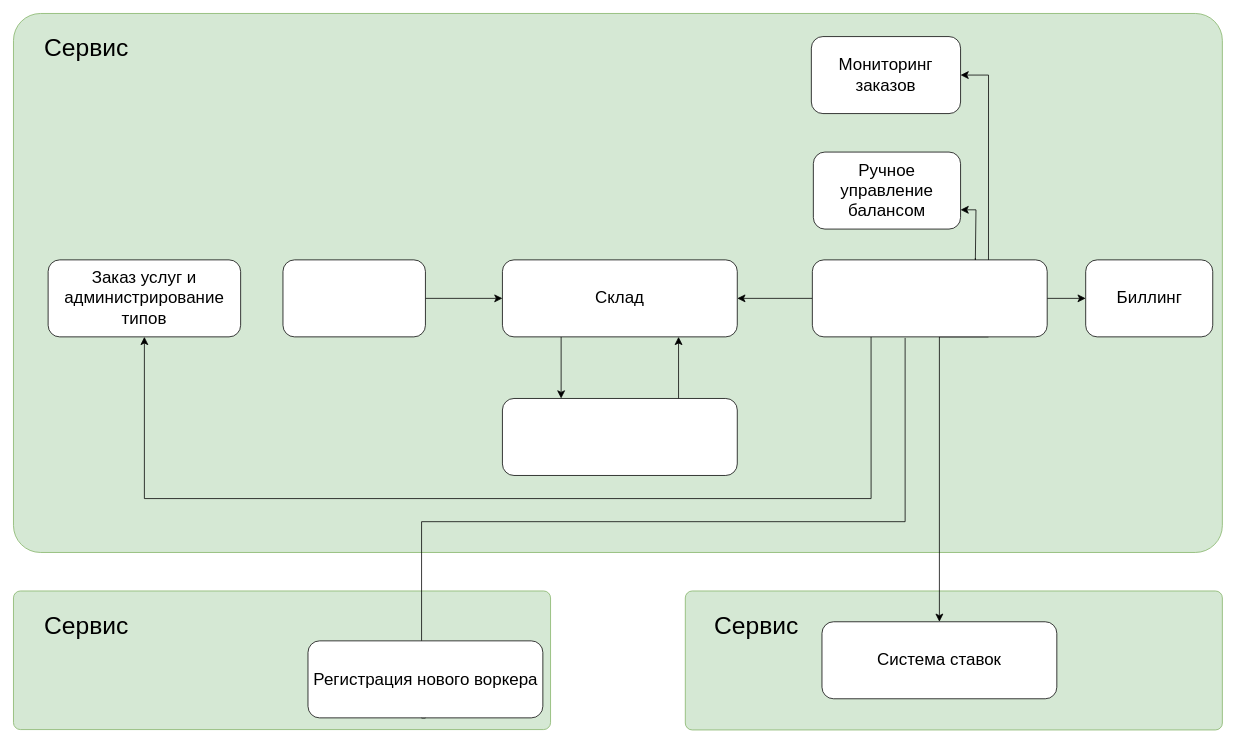
This 1236x744 diagram has some shape labels left out. The centre of each missing label's shape, as x and y in pixels:
Поставка печенья: the point at 619,436
Система мэтчинга: the point at 353,298
Управление заказом: the point at 929,298
